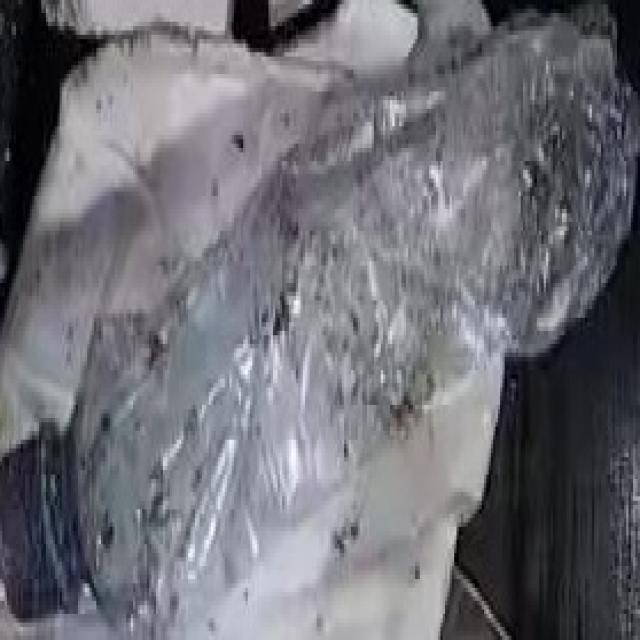litter: (0, 195, 618, 611)
